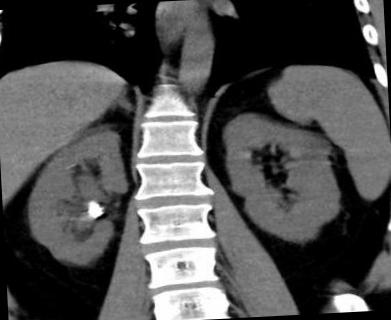Tas_Var: (86, 199, 104, 221)
